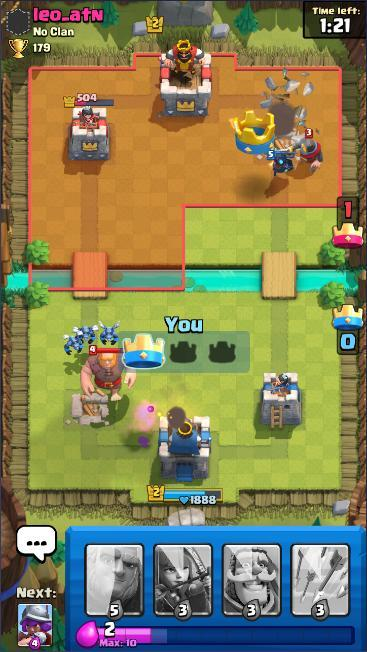ally_mini_pekka: (267, 148, 298, 181)
ally_minion: (95, 319, 122, 347), (71, 324, 100, 346), (61, 333, 85, 356)
enemy_giant: (79, 344, 138, 403)
enemy_knight: (289, 126, 325, 175)
